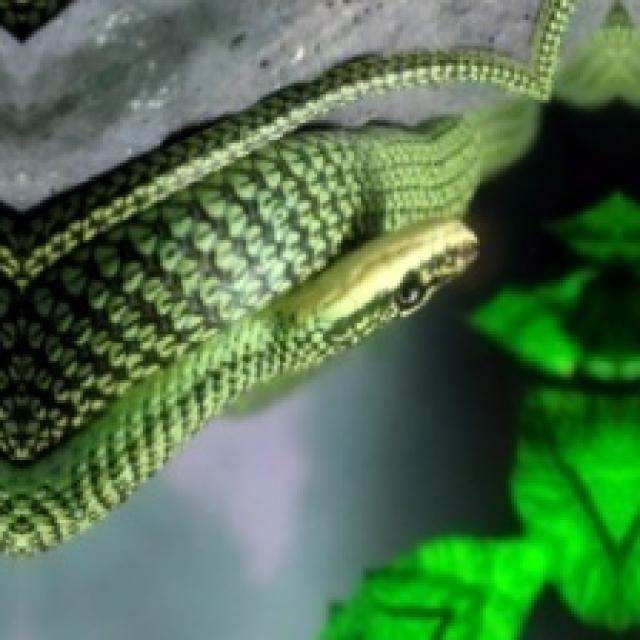paradise tree snake: (0, 0, 571, 551), (0, 0, 571, 549), (40, 3, 246, 111), (37, 11, 243, 114)
